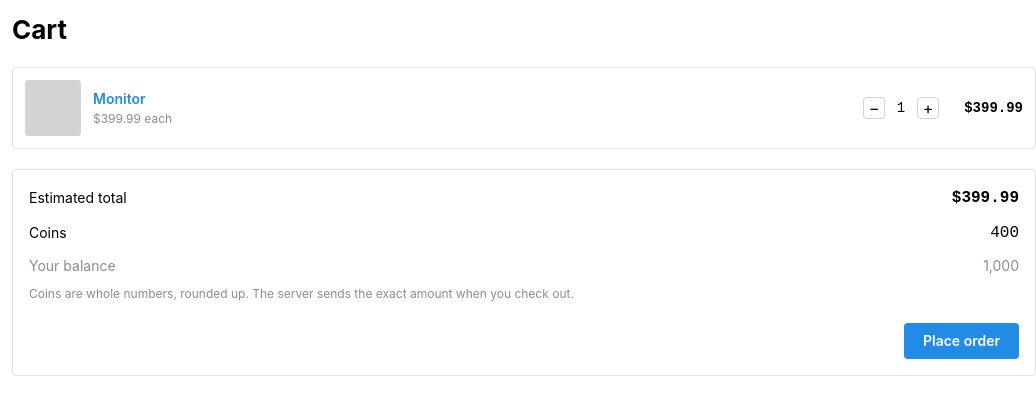
Test case: CartPage › removes the line when the last one is taken away
This screenshot has width=1036, height=393.
Click the button named "Remove Monitor" at (874, 108), box [863, 97, 885, 119]
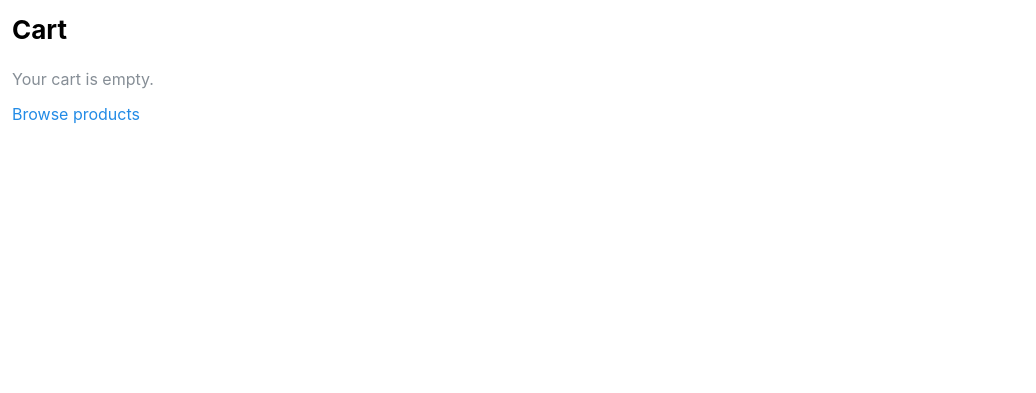
Check: the text "Your cart is empty." is shown, box [12, 67, 154, 92]
